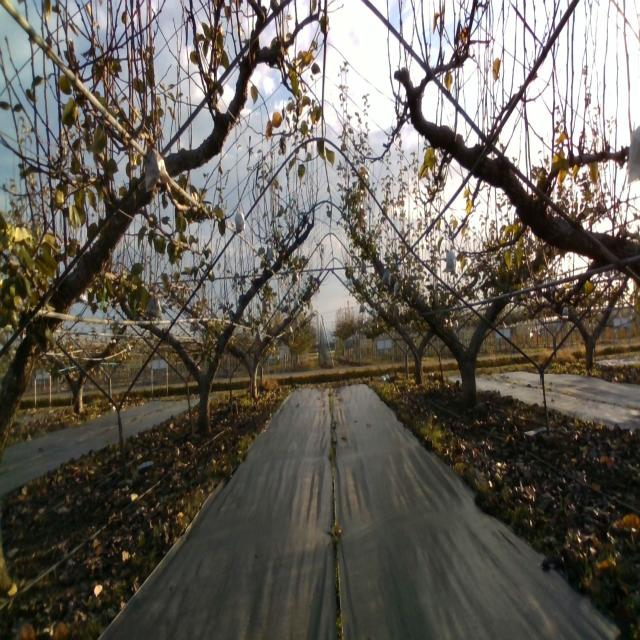pearbags: (144, 148, 171, 192), (234, 208, 246, 235), (446, 248, 457, 276)
